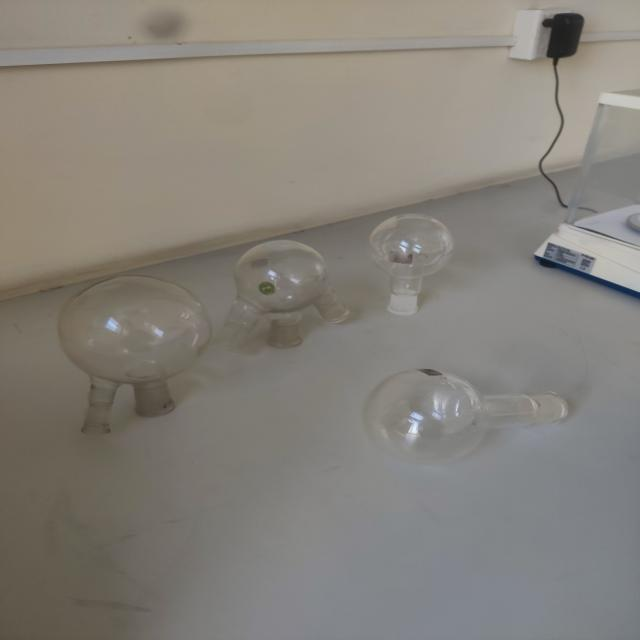Round_Bottom_Flask_Borosilicate_Glass_1_Neck: (342, 338, 594, 473), (355, 192, 478, 326)
Round_Bottom_Flask_Borosilicate_Glass_2_Neck: (41, 266, 227, 449)
Round_Bottom_Flask_Borosilicate_Glass_3_Neck: (218, 231, 365, 359)
